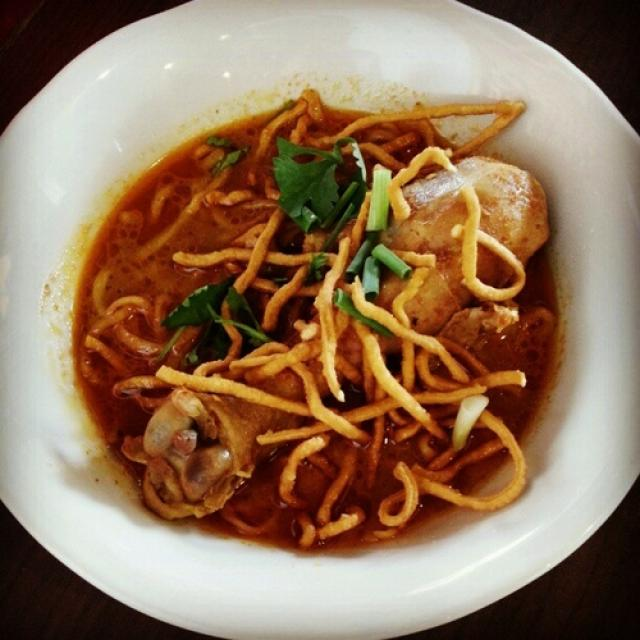面条主食: (26, 26, 613, 626)
